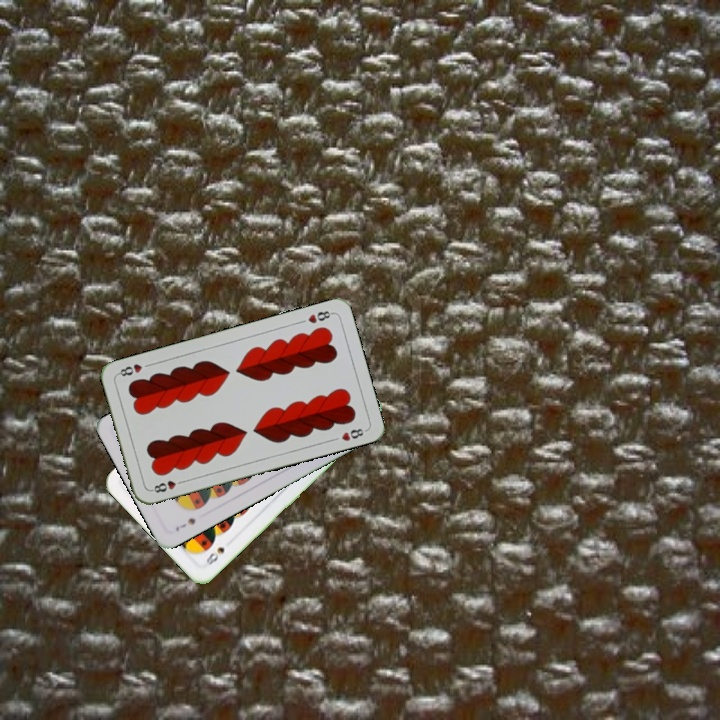H8: (147, 476, 187, 495), (304, 307, 336, 326)
S7: (171, 514, 198, 534)
S8: (201, 543, 227, 570)
